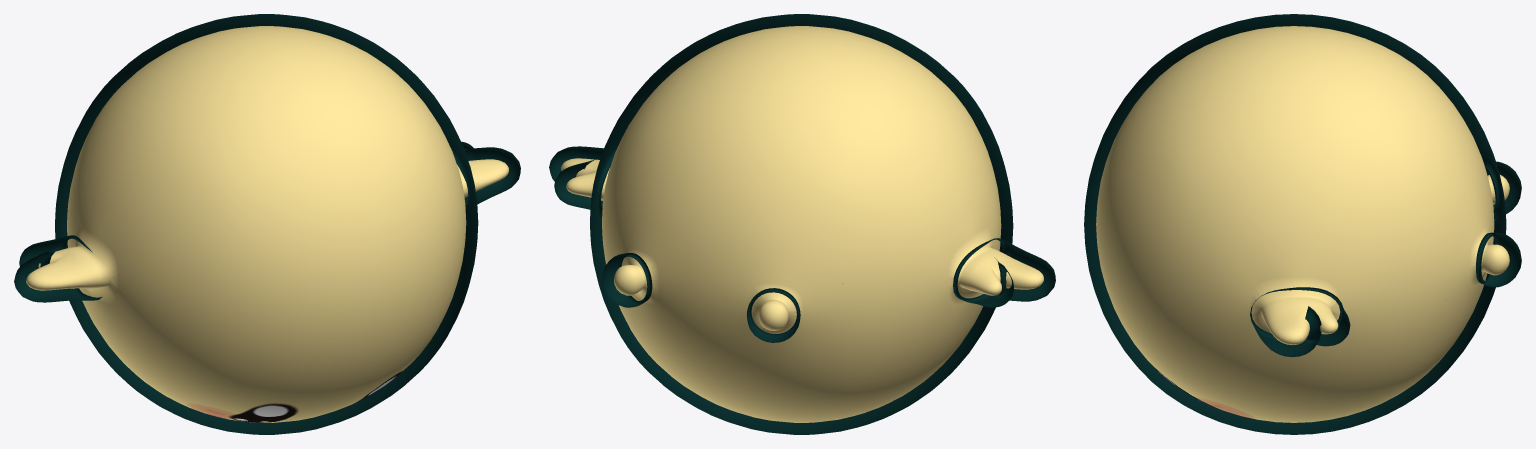
File: chorb.glb
3 views of the same model, side by side, from view 1: azimuth 30°, elevation 25°; view 2: azimuth 150°, elevation 25°; view 3: azimuth 270°, elevation 25° (orthographic).
Visible parts, largest first — view 1: AppliedShaped; view 2: AppliedShaped; view 3: AppliedShaped.
Part boxes in pixels (x1,y1,x2,y2): AppliedShaped: (14, 14, 520, 434); AppliedShaped: (549, 14, 1055, 434); AppliedShaped: (1084, 14, 1521, 434).
Bounding box in the file's own units: 4.8 × 3.49 × 3.64.
Materials: 2 (1 with a texture image).
